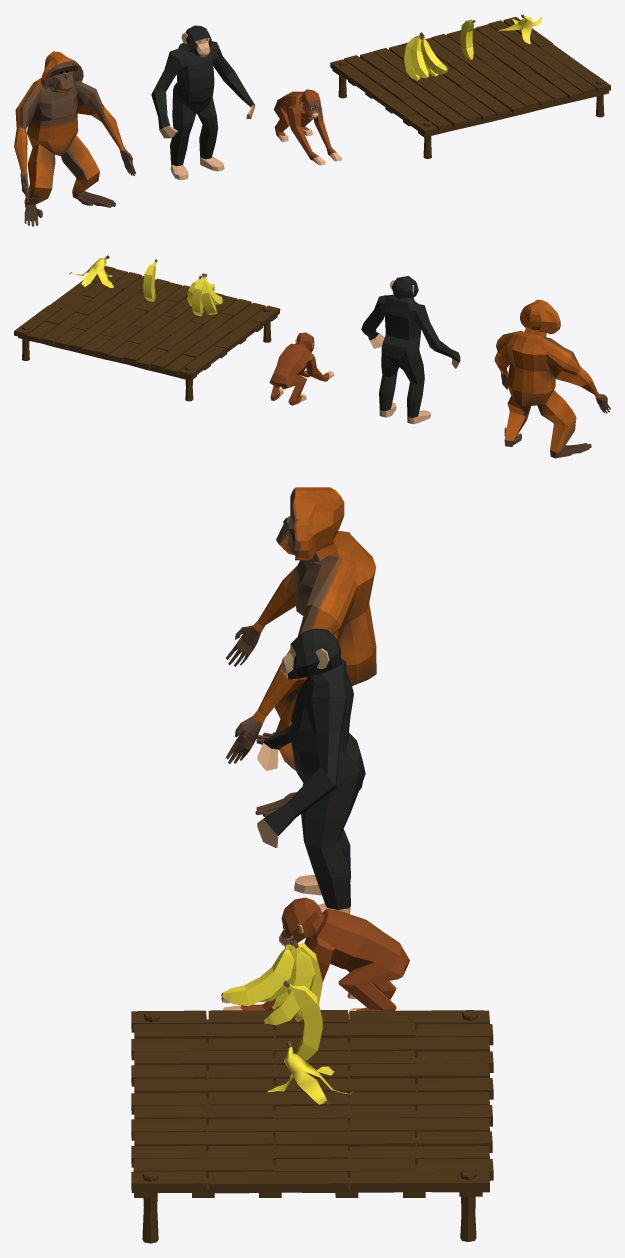
File: MonkeyPack.dae
The picture shows the model from 3 angles, top to bottom: view 1: azimuth 30°, elevation 25°; view 2: azimuth 150°, elevation 25°; view 3: azimuth 270°, elevation 25°; orthographic projection. The views are drawn at different scales.
Parts seen in each view (by area): view 1: DockLarge, Orangutan, Chimpanzee, Monkey, BananaBunch, Banana, BananaPeel; view 2: DockLarge, Orangutan, Chimpanzee, Monkey, BananaBunch, BananaPeel, Banana; view 3: DockLarge, Chimpanzee, Orangutan, Monkey, BananaBunch, Banana, BananaPeel.
Part boxes in pixels (x1=…): DockLarge: x1=330, y1=17, x2=610, y2=158; Orangutan: x1=14, y1=51, x2=135, y2=226; Chimpanzee: x1=151, y1=25, x2=255, y2=179; Monkey: x1=273, y1=89, x2=341, y2=165; BananaBunch: x1=404, y1=32, x2=448, y2=80; Banana: x1=460, y1=19, x2=475, y2=60; BananaPeel: x1=496, y1=14, x2=541, y2=43; DockLarge: x1=14, y1=265, x2=280, y2=401; Orangutan: x1=494, y1=299, x2=610, y2=458; Chimpanzee: x1=361, y1=276, x2=460, y2=424; Monkey: x1=269, y1=332, x2=334, y2=405; BananaBunch: x1=187, y1=273, x2=222, y2=316; BananaPeel: x1=69, y1=255, x2=113, y2=287; Banana: x1=143, y1=259, x2=157, y2=301; DockLarge: x1=131, y1=1010, x2=493, y2=1243; Chimpanzee: x1=257, y1=628, x2=365, y2=913; Orangutan: x1=226, y1=487, x2=376, y2=817; Monkey: x1=221, y1=897, x2=409, y2=1019; BananaBunch: x1=221, y1=935, x2=322, y2=1025; Banana: x1=283, y1=980, x2=322, y2=1060; BananaPeel: x1=267, y1=1041, x2=356, y2=1104.
Bounding box in the file's own units: 20.29 × 5.98 × 5.27.
Materials: 6 (3 with a texture image).
